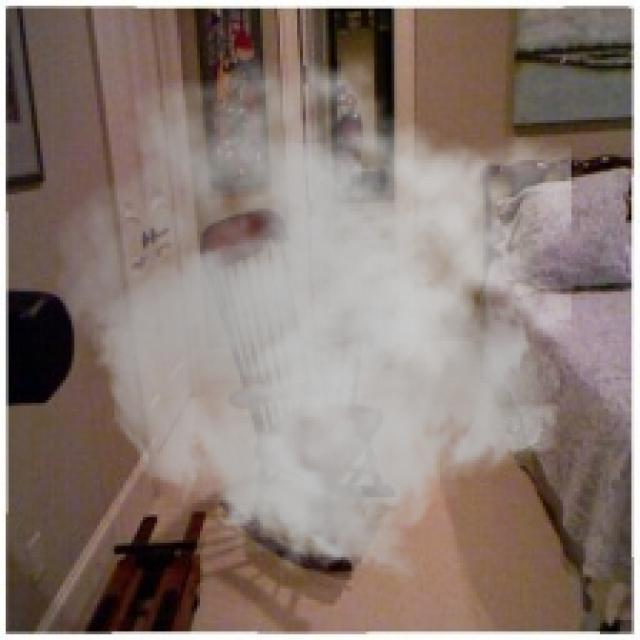Smoke: (54, 43, 572, 586)
